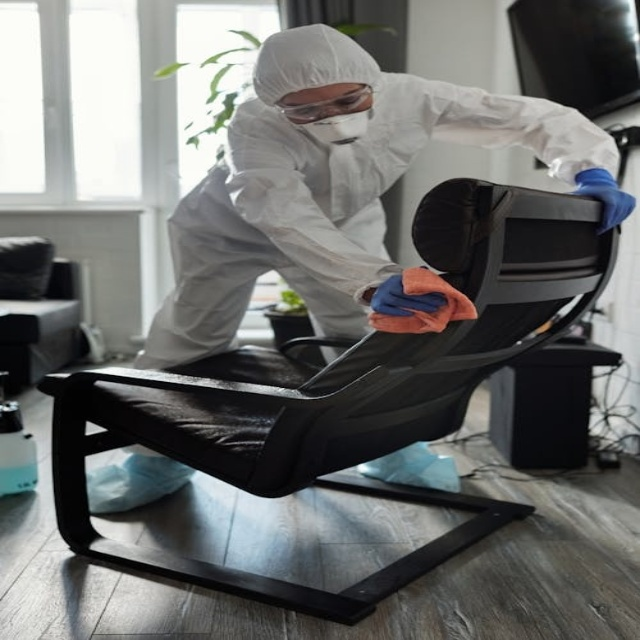Gafas: (275, 84, 374, 125)
Guantes: (570, 167, 637, 235), (370, 272, 446, 318)
Mascara: (290, 102, 371, 146)
